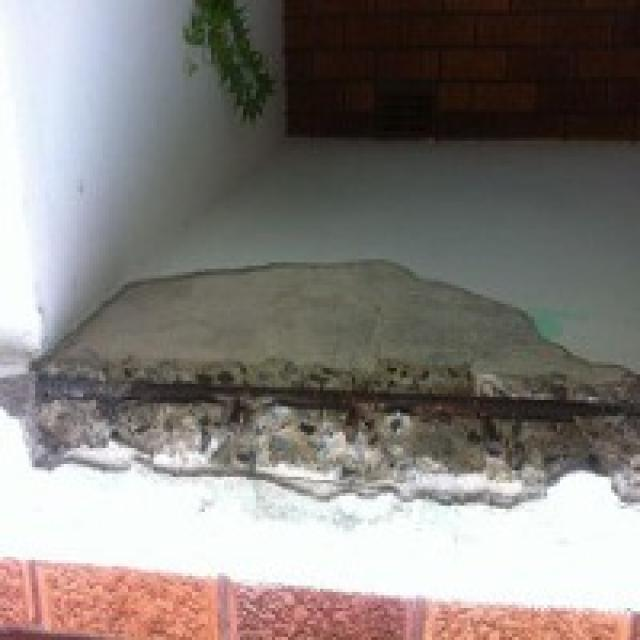Spalling: (0, 261, 639, 509)
corrosion: (38, 377, 631, 415)
dampness: (184, 1, 275, 118)
